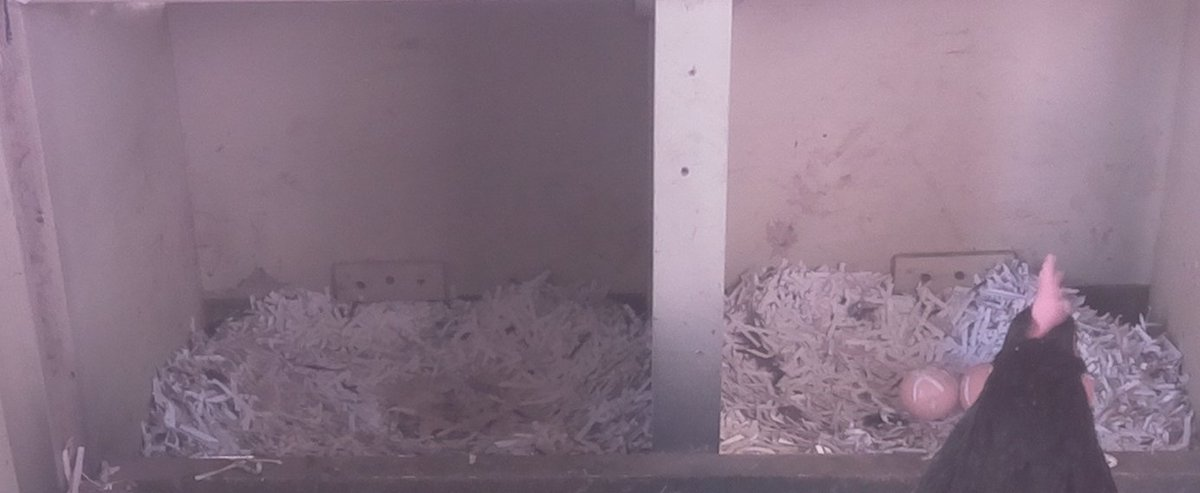egg: (896, 356, 966, 433), (951, 359, 1001, 415)
hen: (926, 252, 1117, 493)
